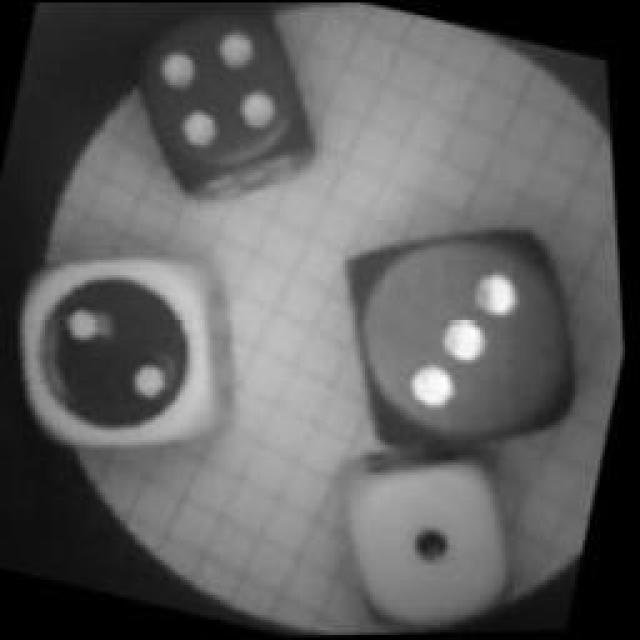dice_1: (306, 426, 542, 636)
dice_2: (0, 218, 265, 484)
dice_3: (299, 185, 611, 490)
dice_4: (95, 0, 345, 220)
